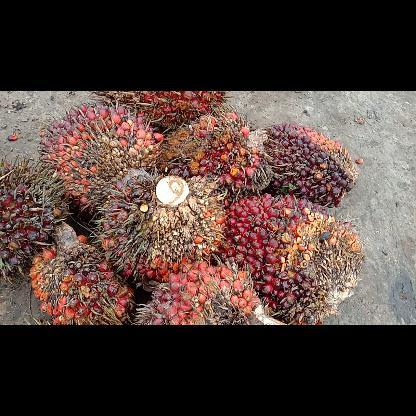TBS masak: (230, 198, 362, 324), (100, 169, 226, 282), (42, 104, 160, 206), (30, 220, 134, 324), (261, 122, 359, 208), (0, 159, 67, 282), (160, 113, 256, 195), (137, 264, 267, 324), (89, 93, 225, 127)
